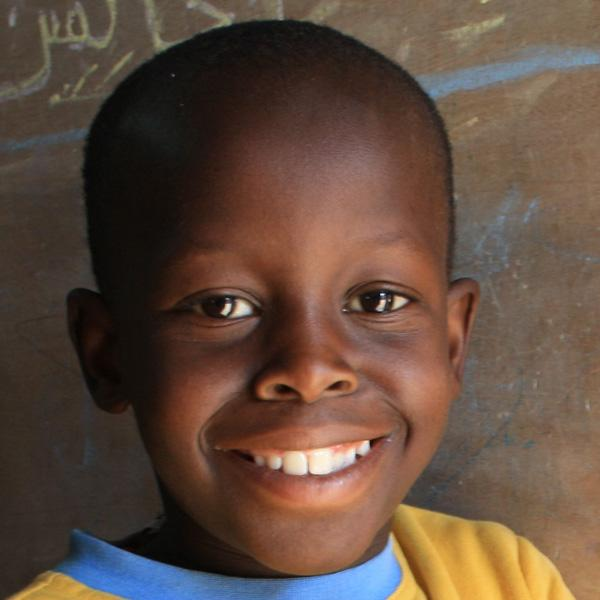Eyes: (158, 276, 276, 342), (334, 272, 426, 331)
